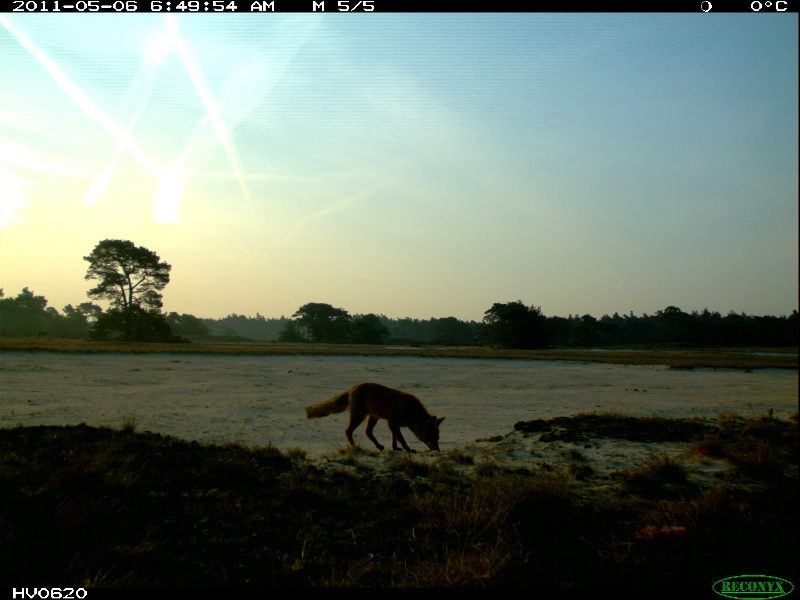fox: (300, 380, 452, 458)
